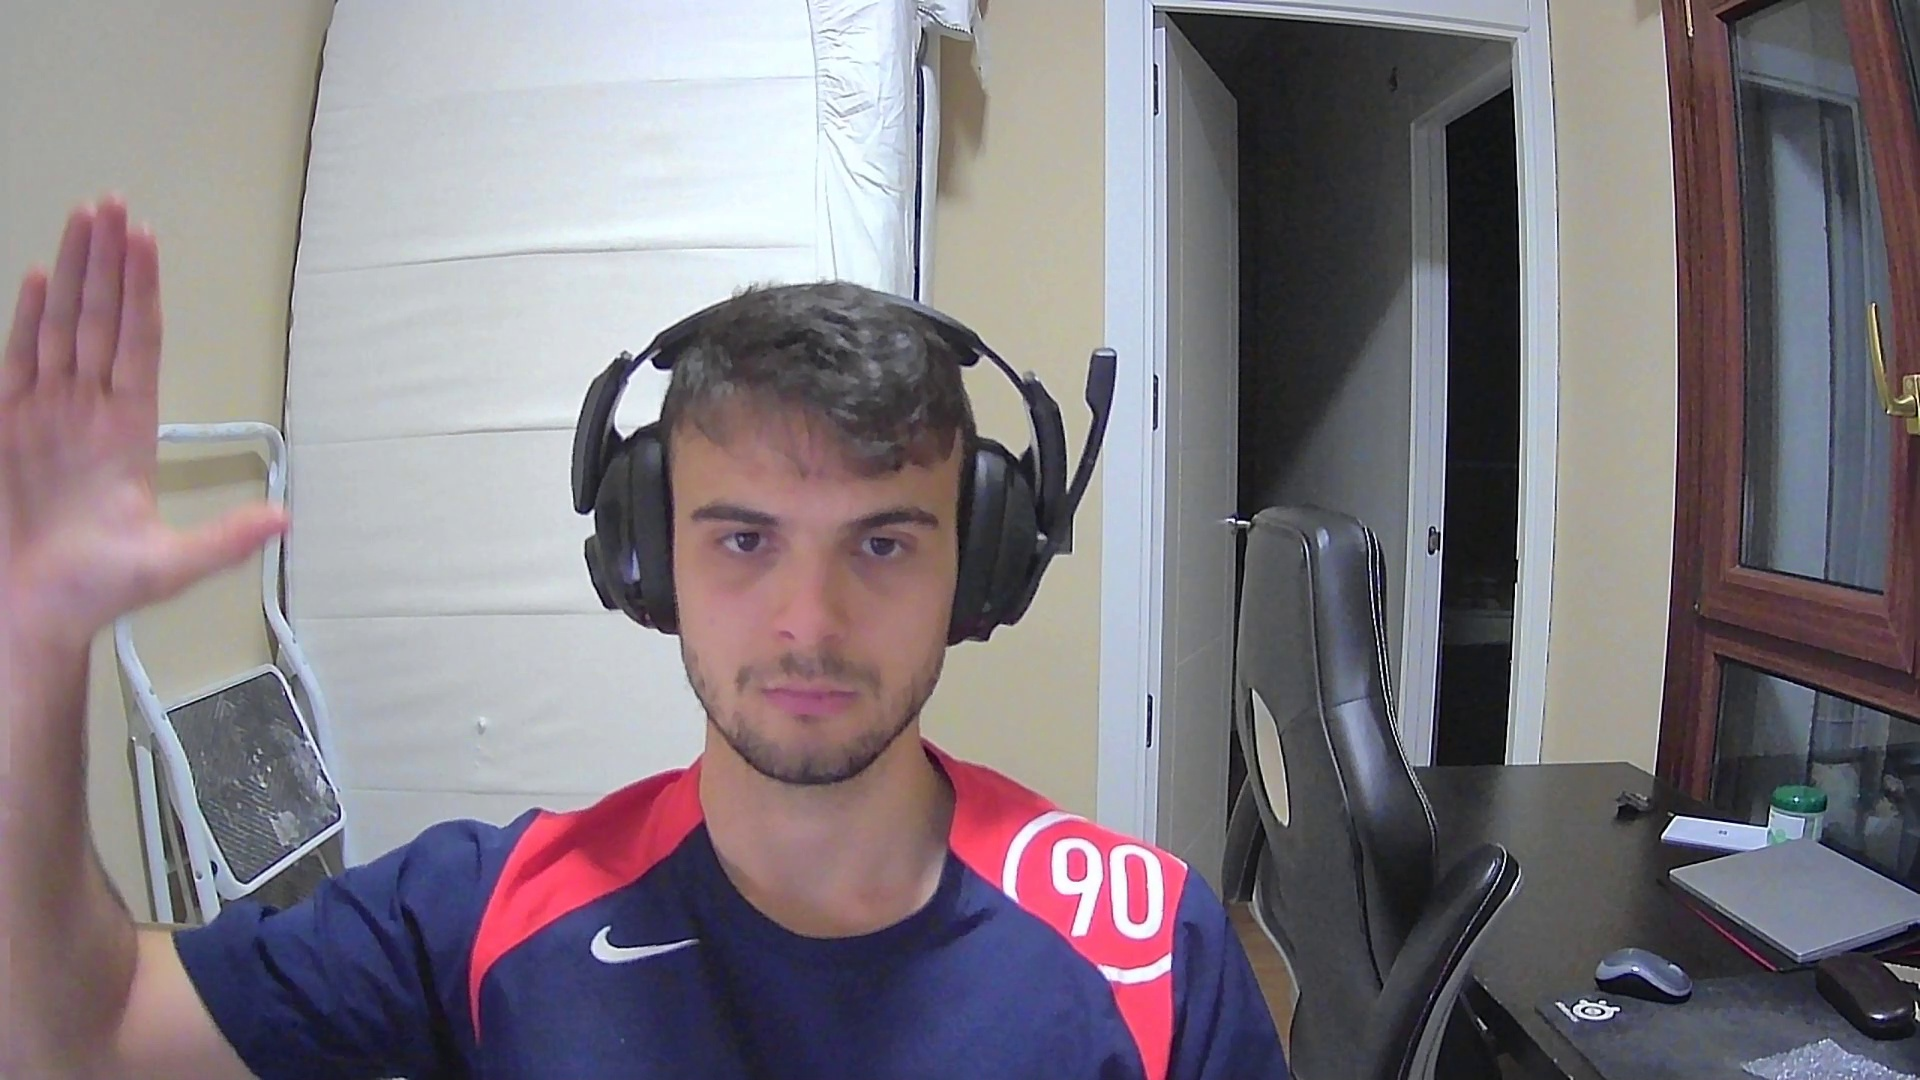Palm: (1, 185, 294, 651)
